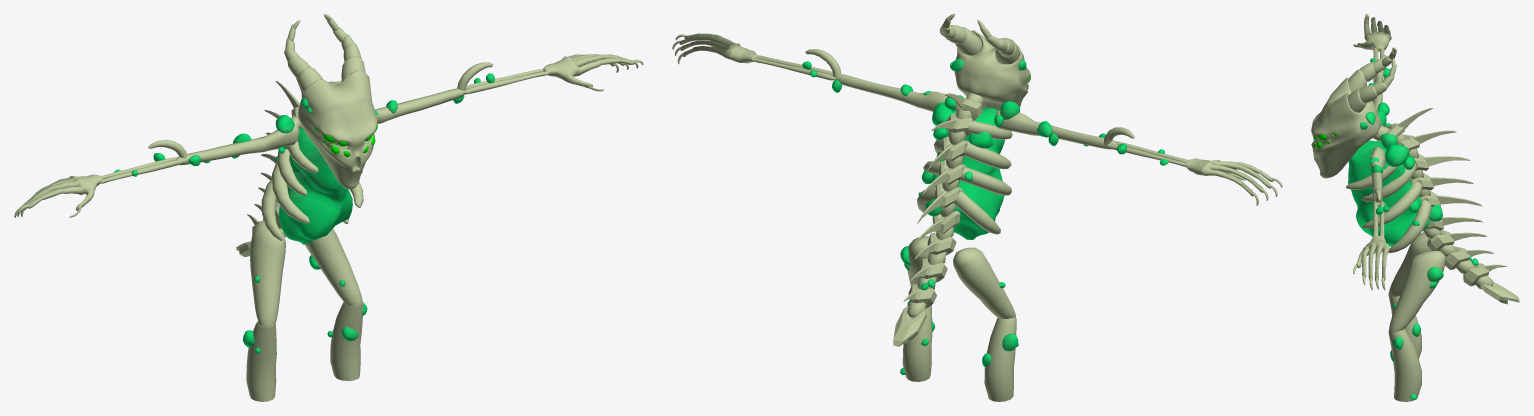
Rendered from Mr-Monster-v2.fbx.
3 renders of one model, left to right at view 1: azimuth 30°, elevation 25°; view 2: azimuth 150°, elevation 25°; view 3: azimuth 270°, elevation 25°, orthographic. The views are drawn at different scales.
Parts seen in each view (by area): view 1: mr_monster_fixed_up; view 2: mr_monster_fixed_up; view 3: mr_monster_fixed_up.
Part boxes in pixels (x1,y1,x2,y2): mr_monster_fixed_up: [14, 14, 643, 401]; mr_monster_fixed_up: [672, 14, 1282, 401]; mr_monster_fixed_up: [1311, 14, 1519, 401].
Bounding box in the file's own units: 14.35 × 8.21 × 4.75.
